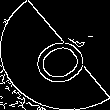O_NE: (18, 22, 92, 88)
